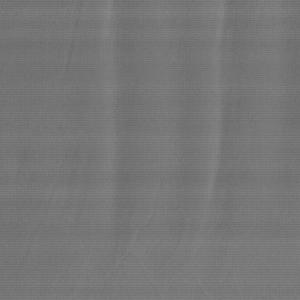Wrinkle: (57, 1, 245, 263)
